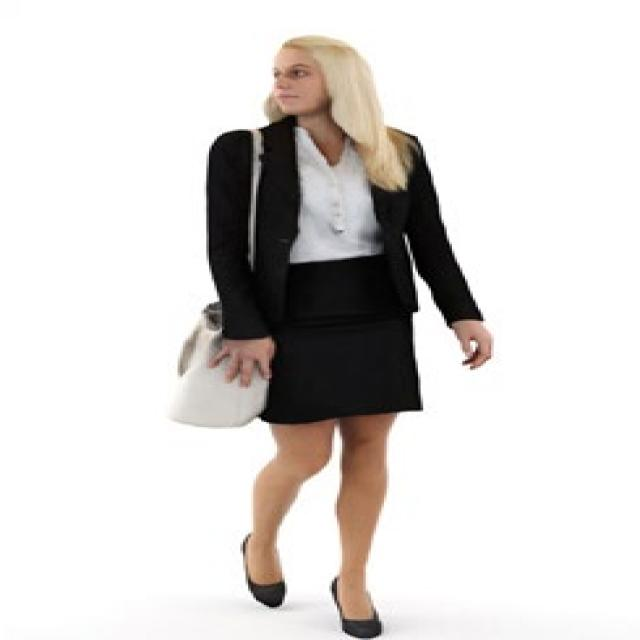standing: (201, 32, 499, 640)
